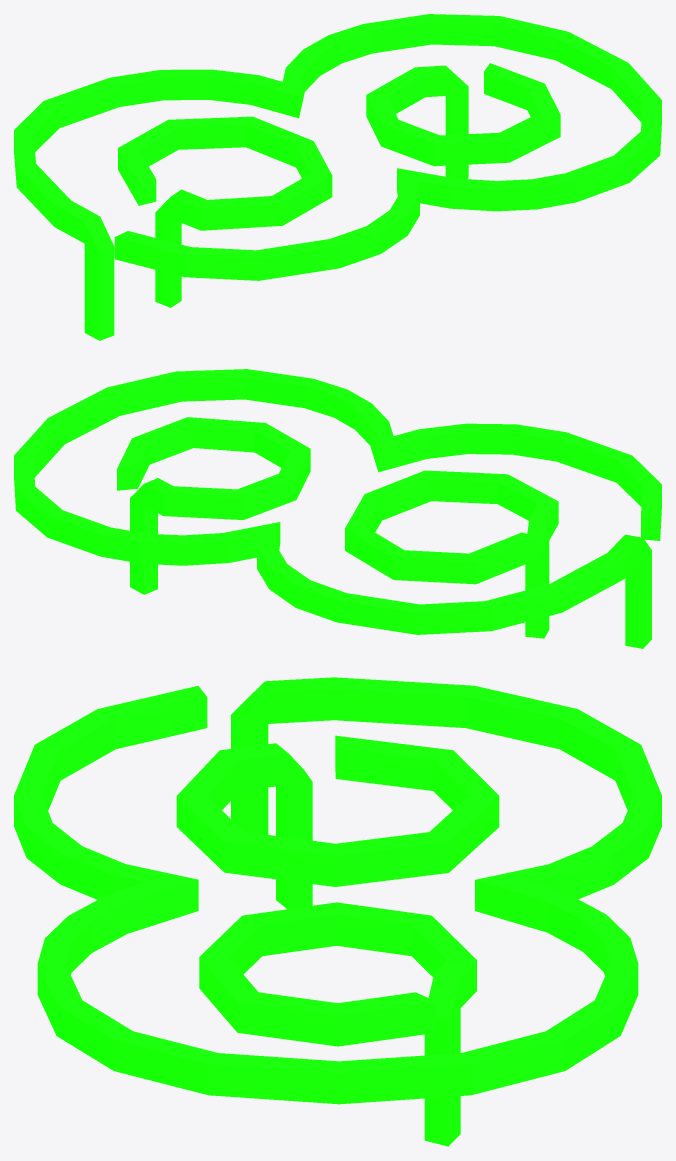
File: Number_3D_04_8.FBX
The picture shows the model from 3 angles, top to bottom: view 1: azimuth 30°, elevation 25°; view 2: azimuth 150°, elevation 25°; view 3: azimuth 270°, elevation 25°; orthographic projection. The views are drawn at different scales.
Visible parts, largest first — view 1: Number_3D_04_8; view 2: Number_3D_04_8; view 3: Number_3D_04_8.
Boxes of the visible parts, left/top/right/bottom form: Number_3D_04_8: left=14, top=14, right=661, bottom=340; Number_3D_04_8: left=14, top=369, right=661, bottom=648; Number_3D_04_8: left=14, top=677, right=661, bottom=1146.
Size of the model in its own units: 68.32 by 12.63 by 47.28.
